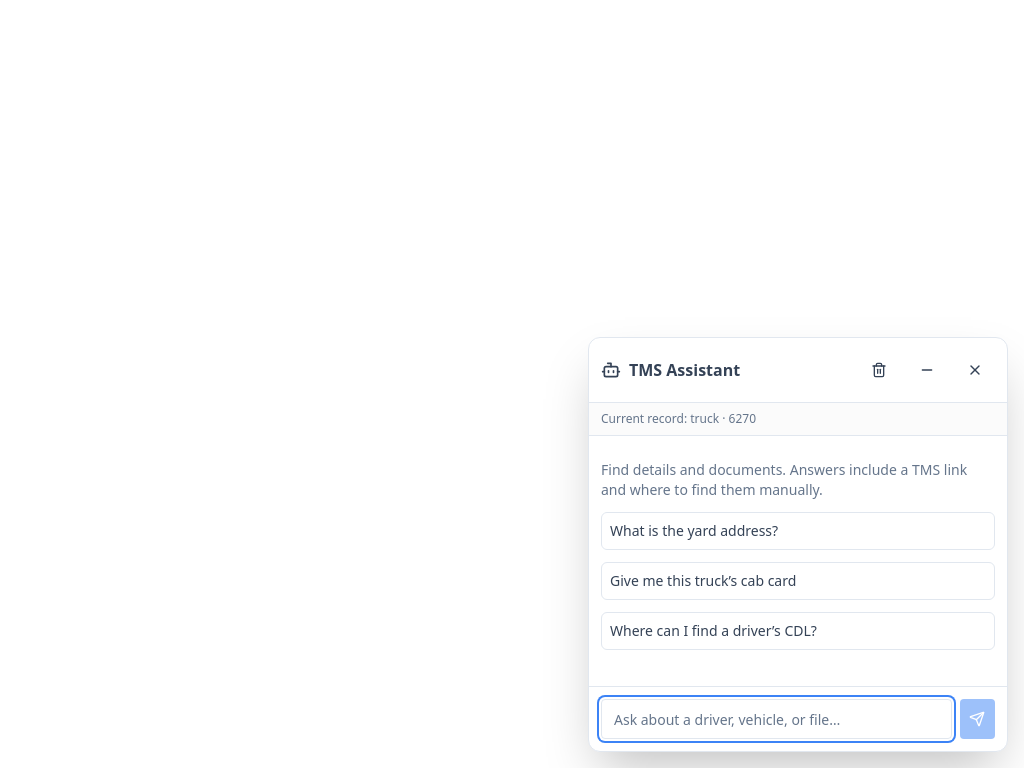
Test: TMS assistant panel › shows current context and sends a question
Expected: the text "Current record: truck · 6270" is shown, [589, 403, 1007, 436]
Type "Cab card please" into the field named "Message" at (776, 719), box [601, 699, 952, 739]
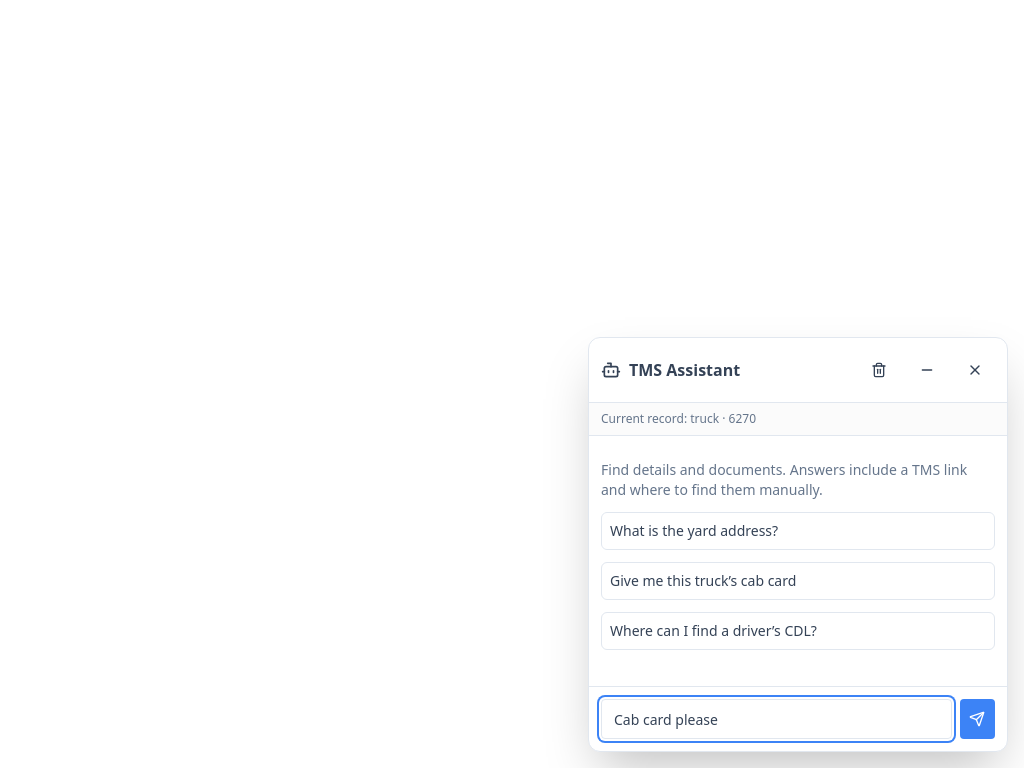
Click the button named "Send" at (977, 719), box [960, 699, 995, 739]
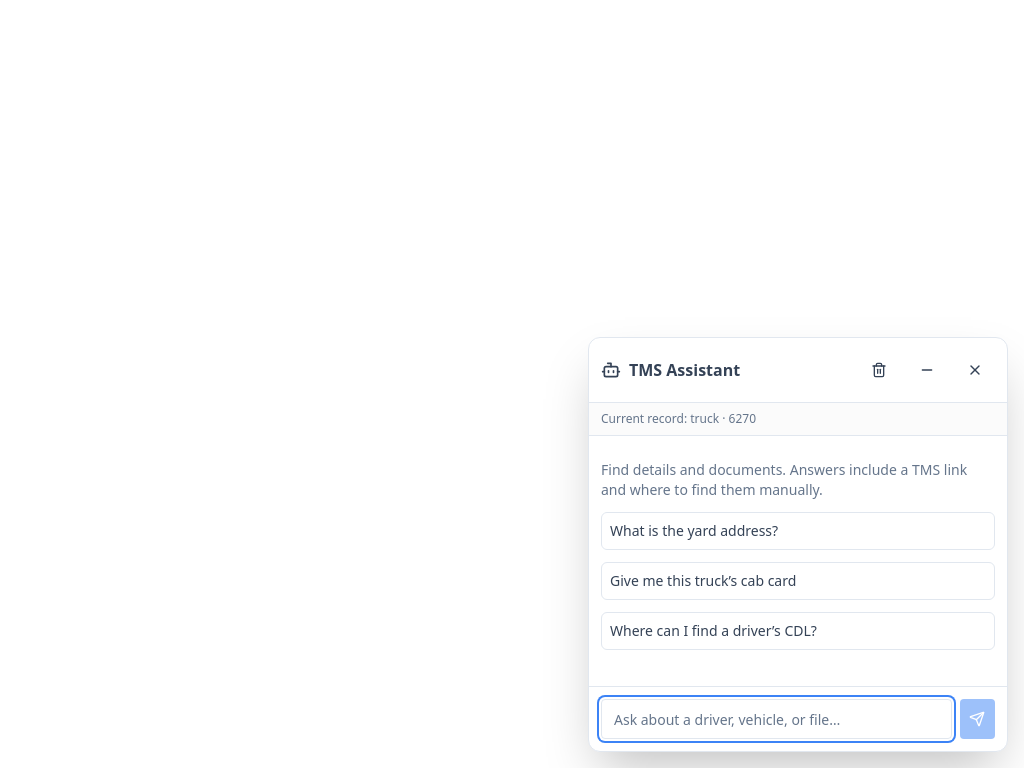
Result: the field named "Message" is empty at [601, 699, 952, 739]
